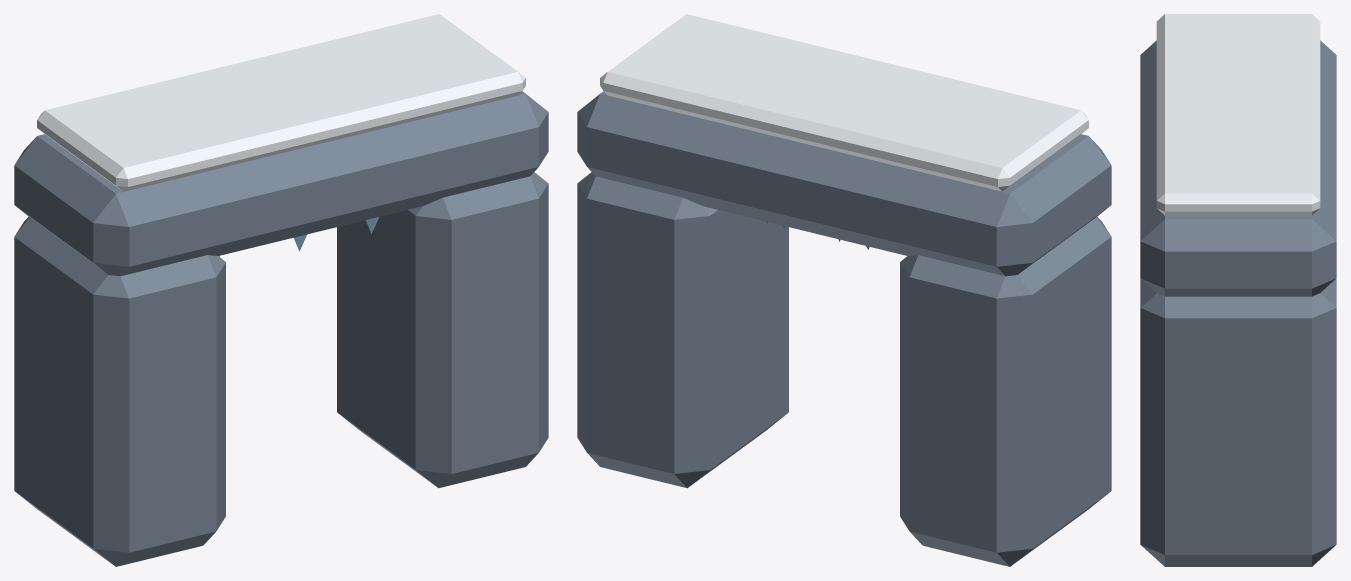
The model's file is env_r2_icicle_rock_arch.glb.
The picture shows the model from 3 angles, left to right: view 1: azimuth 30°, elevation 25°; view 2: azimuth 150°, elevation 25°; view 3: azimuth 270°, elevation 25°; orthographic projection. The views are drawn at different scales.
Parts seen in each view (by area): view 1: env_r2_icicle_rock_arch; view 2: env_r2_icicle_rock_arch; view 3: env_r2_icicle_rock_arch.
Boxes of the visible parts, x1,y1,x2,y2 form: env_r2_icicle_rock_arch: [14, 14, 548, 566]; env_r2_icicle_rock_arch: [577, 14, 1111, 566]; env_r2_icicle_rock_arch: [1140, 14, 1336, 566].
Bounding box in the file's own units: 6 × 5 × 2.4.
1 material, 1 textured.
